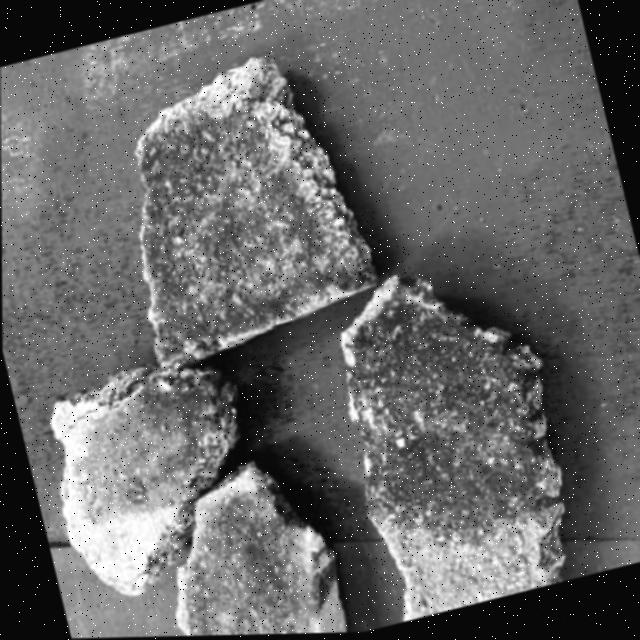Road Debris: (312, 239, 569, 568), (90, 84, 354, 381), (45, 354, 250, 525), (139, 468, 337, 638)
